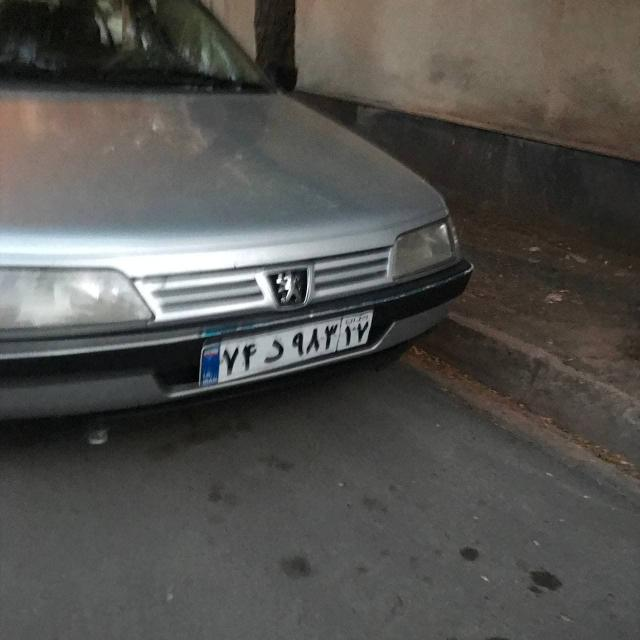Plates: (190, 304, 380, 387)
